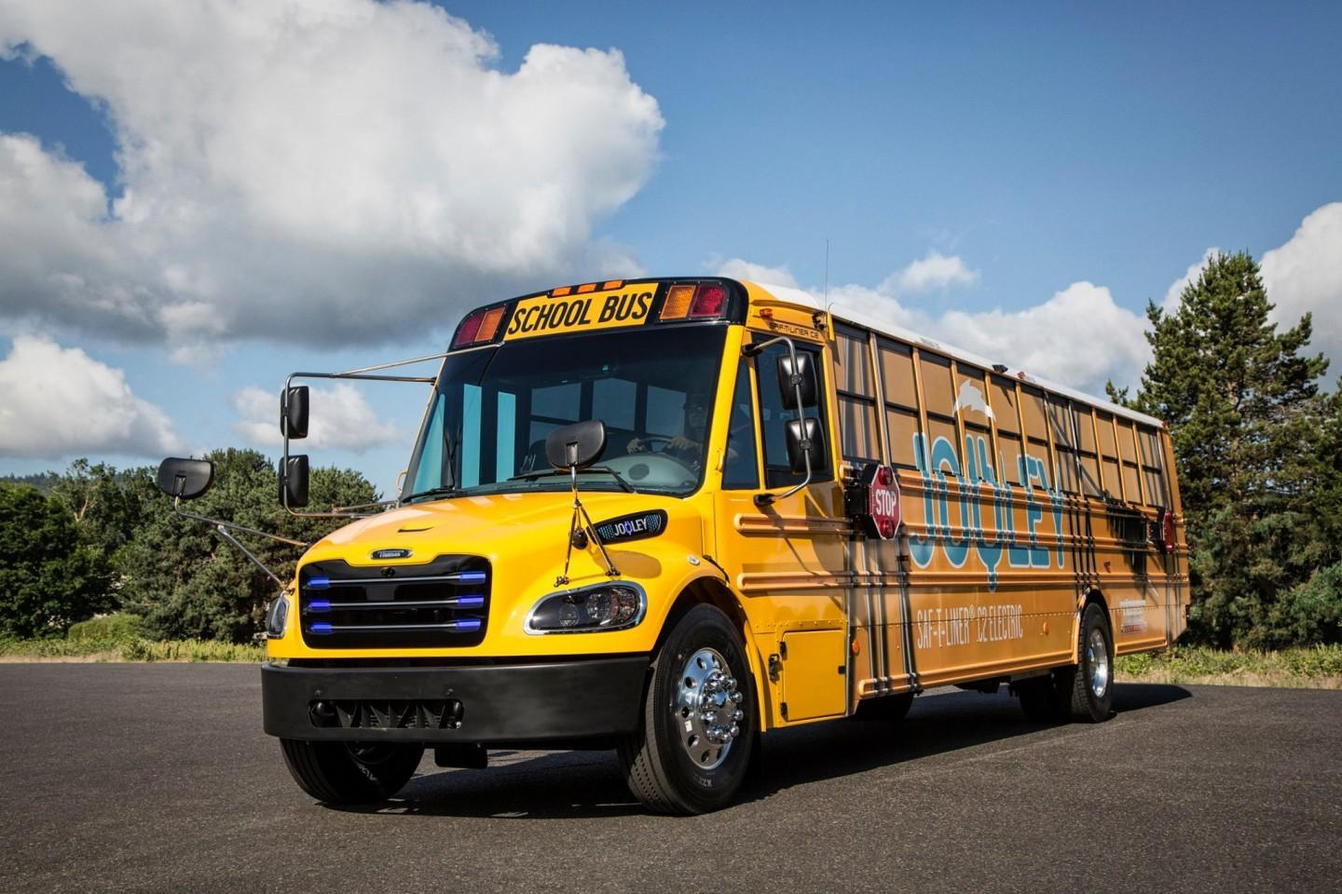Bus: (263, 276, 1195, 817)
